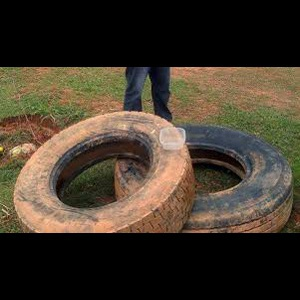tire: (13, 111, 195, 234), (114, 124, 293, 233)
